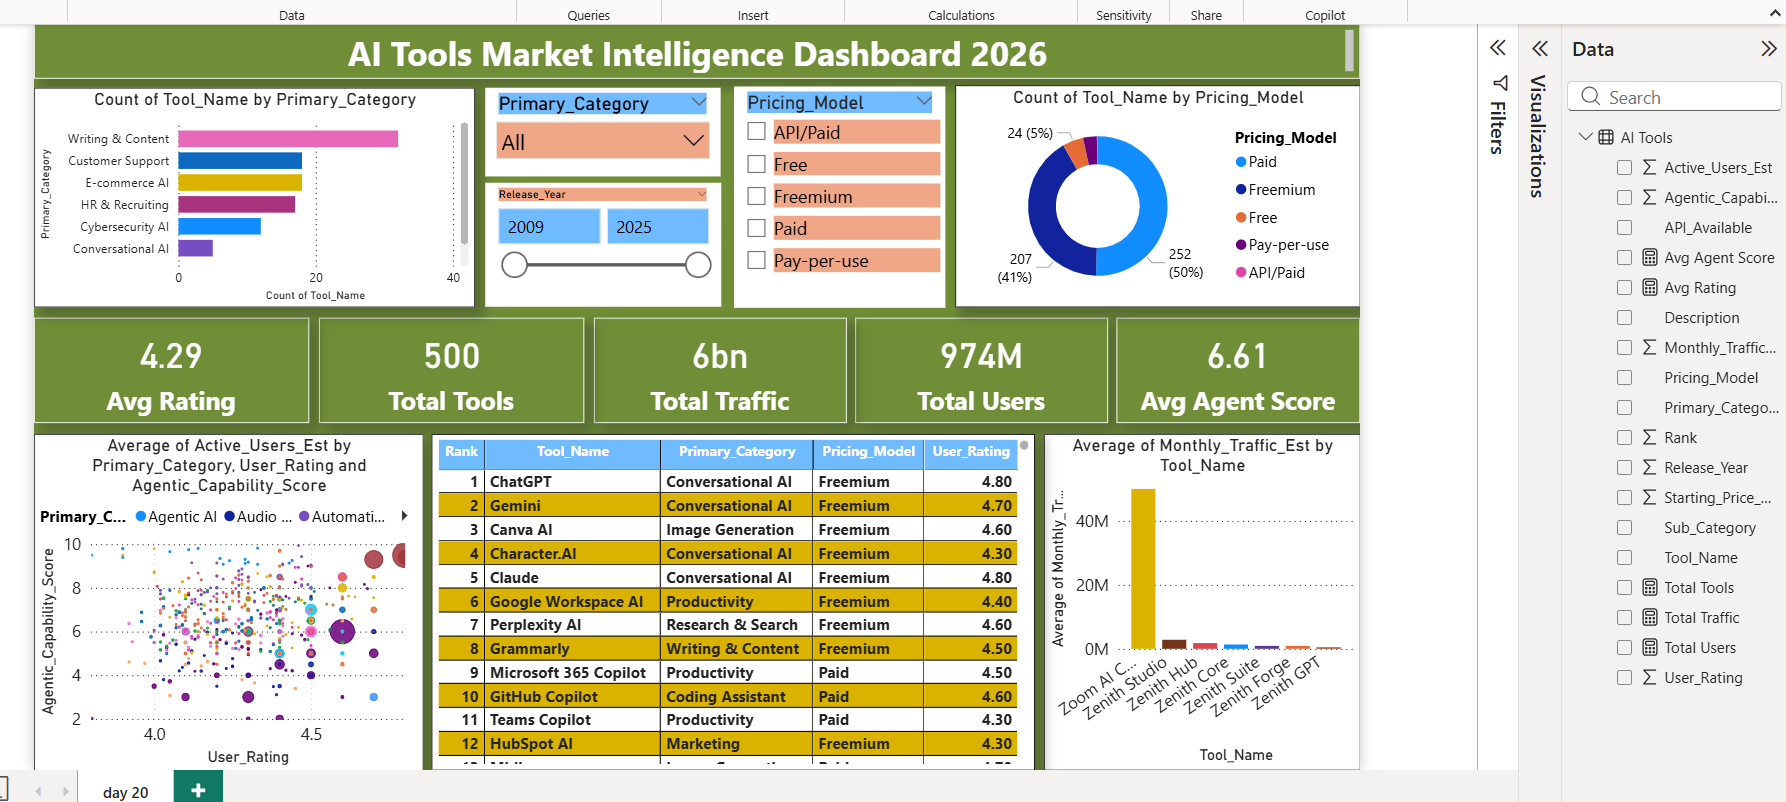

The dashboard page shown, as its layout file describes it:
{"tool":"powerbi","page":{"name":"day 20","canvas":[1280,720],"ordinal":0},"visuals":[{"type":"textbox","box":[0,0,1280,53.1],"z":0},{"type":"card","fields":{"Values":["AI Tools.Total Users"]},"box":[792.6,283.5,243.7,101.3],"z":1000},{"type":"card","fields":{"Values":["AI Tools.Total Traffic"]},"box":[540.5,283.5,243.7,101.3],"z":2000},{"type":"card","fields":{"Values":["AI Tools.Total Tools"]},"box":[275.1,283.5,255.8,101.3],"z":3000},{"type":"card","fields":{"Values":["AI Tools.Avg Rating"]},"box":[0,283.5,265.4,101.3],"z":4000},{"type":"card","fields":{"Values":["AI Tools.Avg Agent Score"]},"box":[1044.8,283.5,235.3,101.3],"z":5000},{"type":"barChart","fields":{"Category":["AI Tools.Primary_Category"],"Y":["CountNonNull(AI Tools.Tool_Name)"]},"box":[0,61.5,425.9,212.3],"z":6000},{"type":"columnChart","fields":{"Category":["AI Tools.Tool_Name"],"Y":["Avg(AI Tools.Monthly_Traffic_Est)"]},"box":[974.8,395.7,305.2,324.5],"z":8000},{"type":"scatterChart","fields":{"X":["AI Tools.User_Rating"],"Y":["AI Tools.Agentic_Capability_Score"],"Series":["AI Tools.Primary_Category"],"Size":["Avg(AI Tools.Active_Users_Est)"]},"box":[0,395.1,375.6,325.6],"z":9000},{"type":"tableEx","fields":{"Values":["AI Tools.Rank","AI Tools.Tool_Name","AI Tools.Primary_Category","AI Tools.Pricing_Model","AI Tools.User_Rating"]},"box":[383.6,395.7,582.7,324.5],"z":10000},{"type":"slicer","fields":{"Values":["AI Tools.Primary_Category"]},"box":[435.4,61,226.8,85.4],"z":11000},{"type":"slicer","fields":{"Values":["AI Tools.Pricing_Model"]},"box":[675.6,60.3,203.9,213.5],"z":12000},{"type":"slicer","fields":{"Values":["AI Tools.Release_Year"]},"box":[435.4,153.7,226.8,119.5],"z":13000},{"type":"donutChart","fields":{"Category":["AI Tools.Pricing_Model"],"Y":["CountNonNull(AI Tools.Tool_Name)"]},"box":[889.1,59.1,390.9,214.7],"z":14001}]}

Visuals, with their boxes on the page's 1280x720 design canvas (x1, y1, x2, y2). These are canvas units, not pixel positions in the 1786x802 screenshot, which may show the page scaled, cropped or inside an application window:
textbox: [0,0,1280,53]
card - AI Tools.Total Users: [793,284,1036,385]
card - AI Tools.Total Traffic: [540,284,784,385]
card - AI Tools.Total Tools: [275,284,531,385]
card - AI Tools.Avg Rating: [0,284,265,385]
card - AI Tools.Avg Agent Score: [1045,284,1280,385]
barChart - AI Tools.Primary_Category x CountNonNull(AI Tools.Tool_Name): [0,62,426,274]
columnChart - AI Tools.Tool_Name x Avg(AI Tools.Monthly_Traffic_Est): [975,396,1280,720]
scatterChart - AI Tools.User_Rating x AI Tools.Agentic_Capability_Score: [0,395,376,721]
tableEx - AI Tools.Rank x AI Tools.Tool_Name: [384,396,966,720]
slicer - AI Tools.Primary_Category: [435,61,662,146]
slicer - AI Tools.Pricing_Model: [676,60,880,274]
slicer - AI Tools.Release_Year: [435,154,662,273]
donutChart - AI Tools.Pricing_Model x CountNonNull(AI Tools.Tool_Name): [889,59,1280,274]
